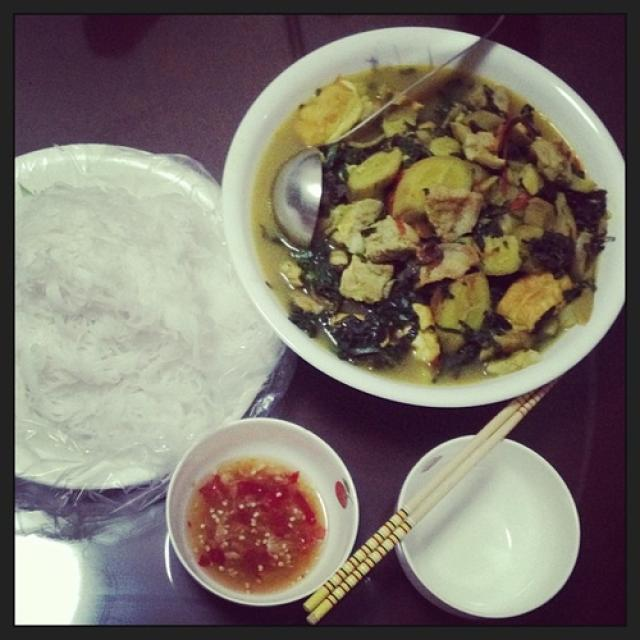面条主食: (37, 23, 621, 623)
